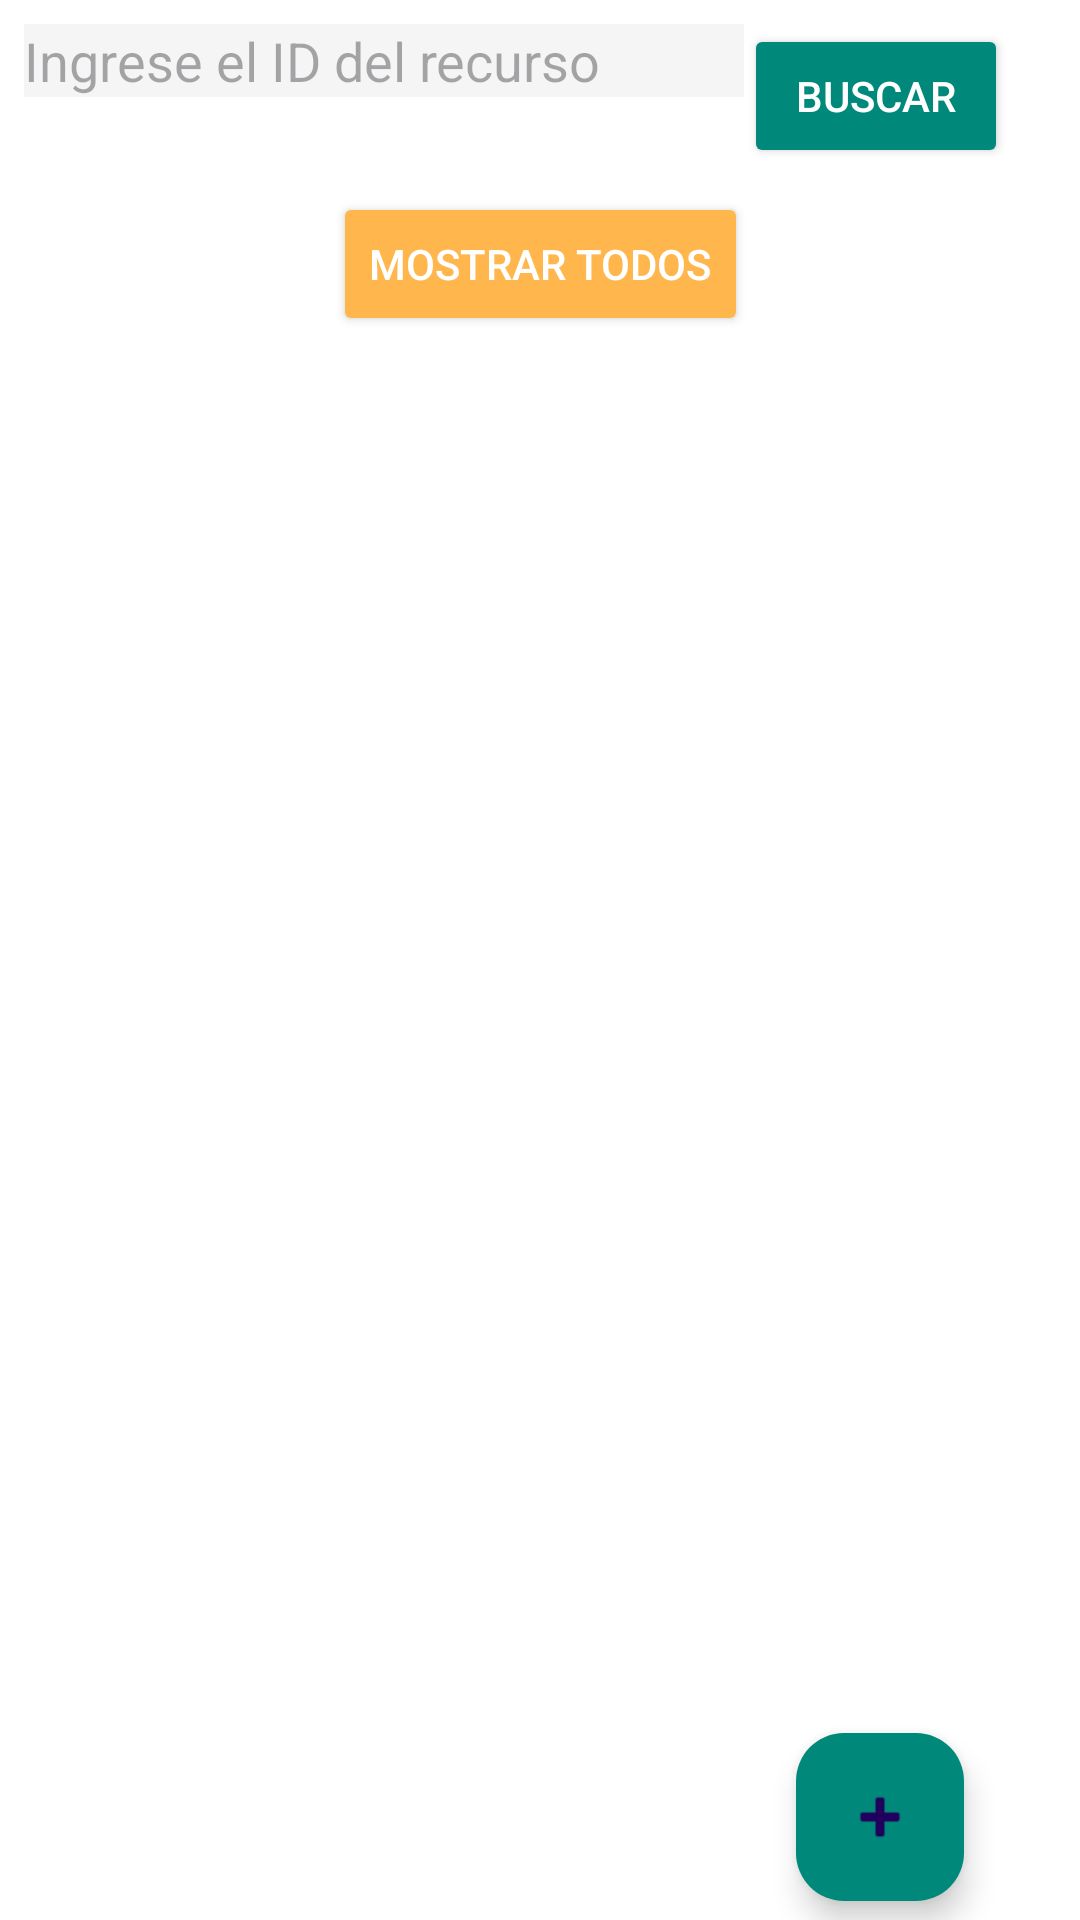

Named icons in this screenshot (1080px x 1920px) and their centers, point (x, y):
Agregar recurso: point (880, 1817)
